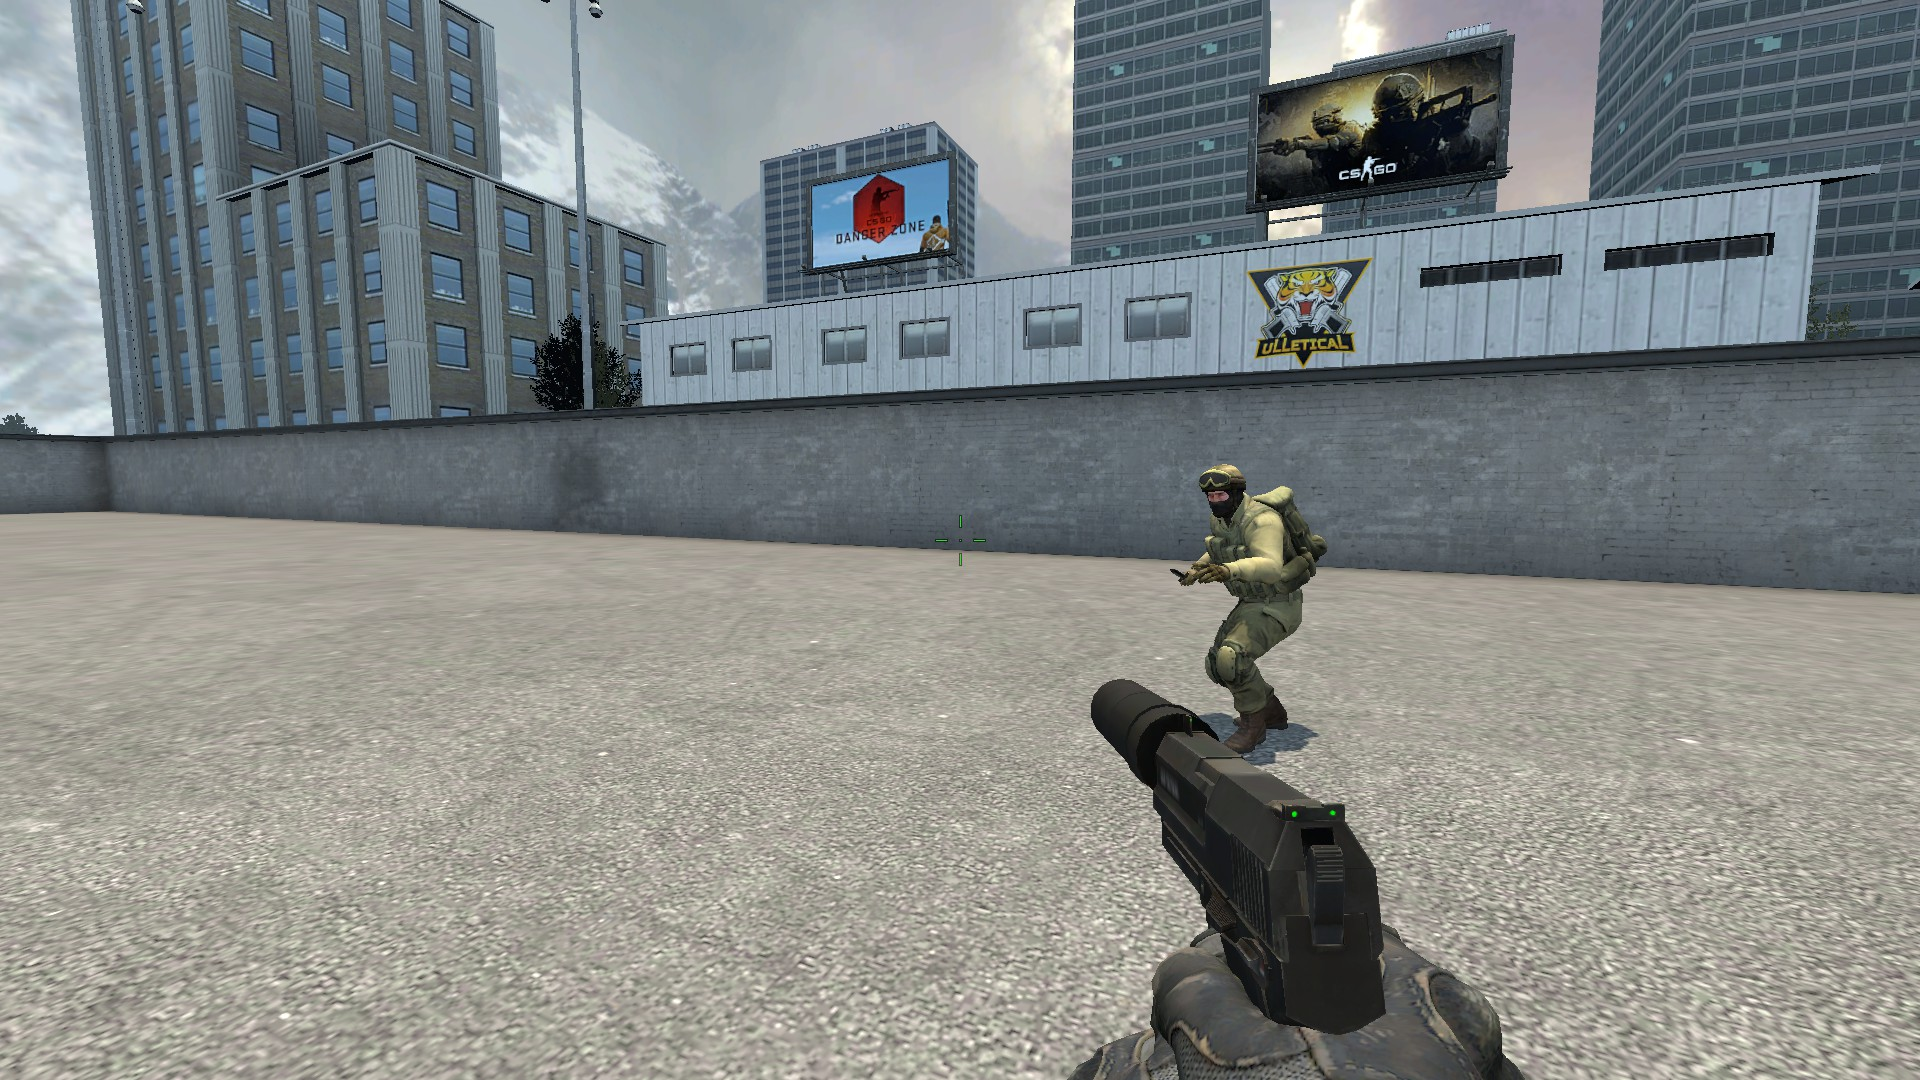ct: (1167, 462, 1331, 754)
ct head: (1195, 460, 1247, 525)
